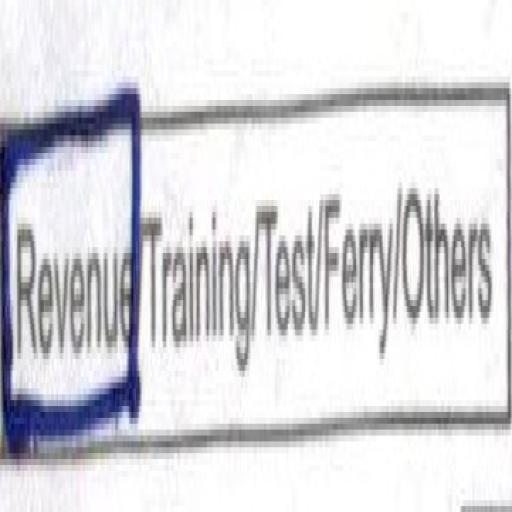check: (0, 35, 143, 506)
